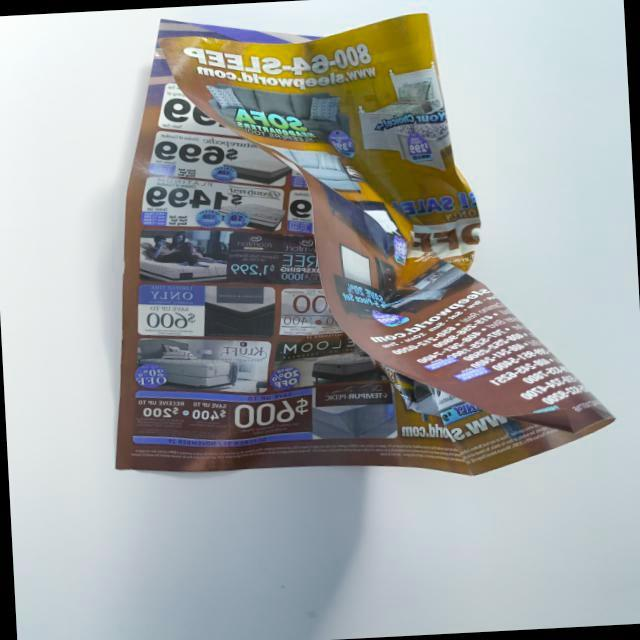paper: (88, 0, 625, 497)
